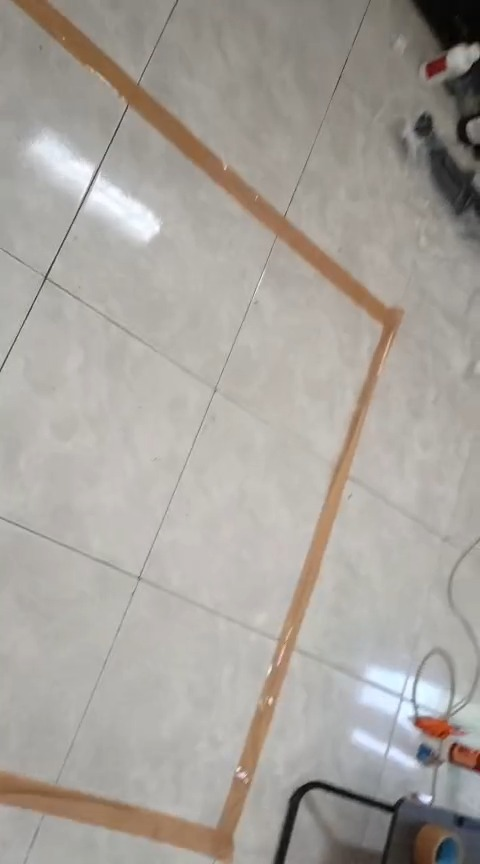floor marking: (0, 0, 401, 858)
